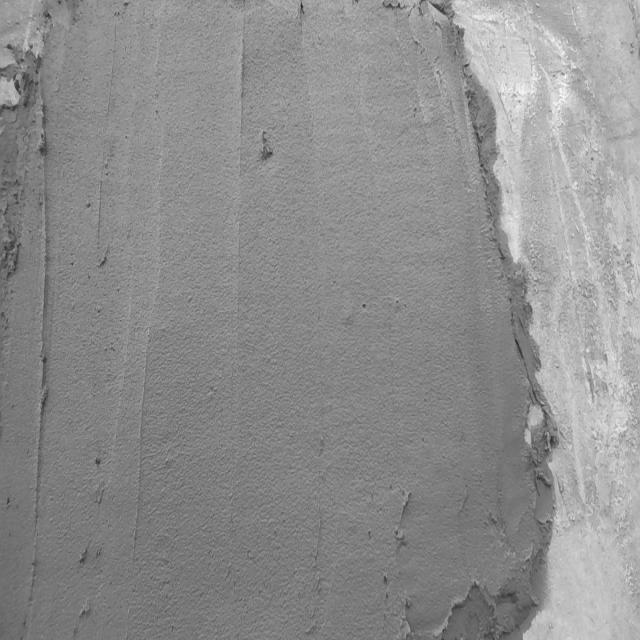trowels marks: (29, 88, 56, 566), (230, 15, 249, 146)
